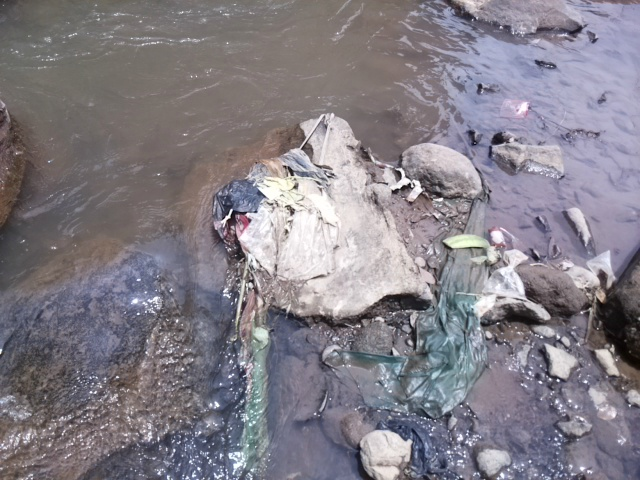Sampah_Plastik: (209, 163, 265, 243)
